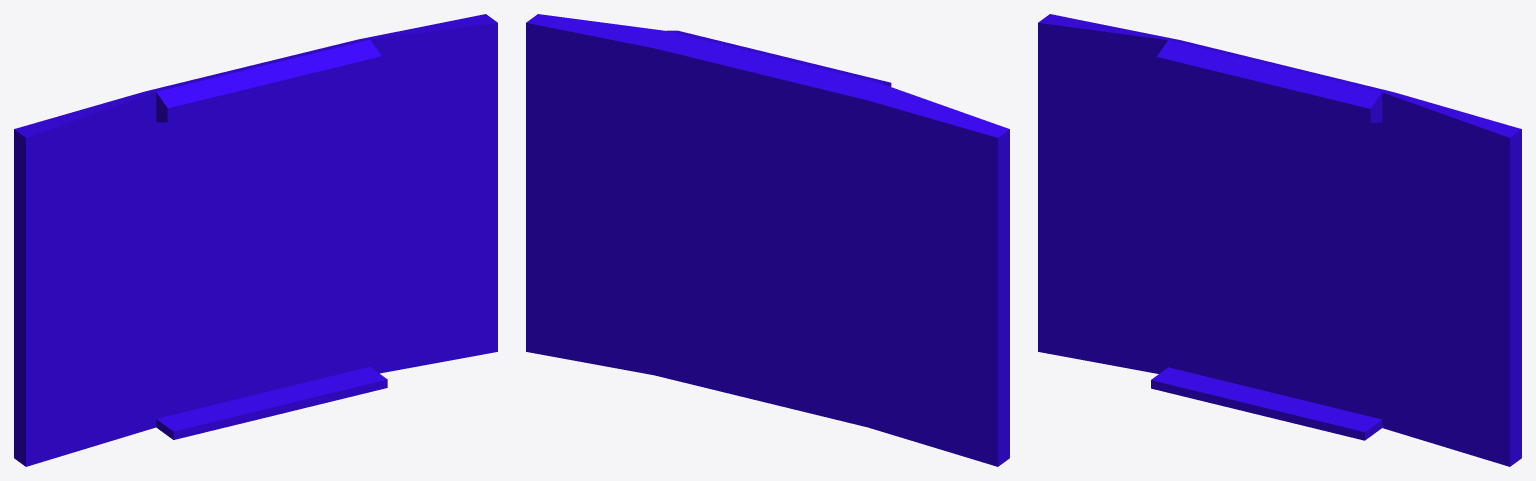
Rendered from office_pack_whiteboard_onWall_1_meshCollider.fbx.
3 views of the same model, side by side, from view 1: azimuth 30°, elevation 25°; view 2: azimuth 150°, elevation 25°; view 3: azimuth 330°, elevation 25° (orthographic).
Visible parts, largest first — view 1: office_pack_whiteboard_onWall_1_meshCollider; view 2: office_pack_whiteboard_onWall_1_meshCollider; view 3: office_pack_whiteboard_onWall_1_meshCollider.
Boxes of the visible parts, x1,y1,x2,y2 form: office_pack_whiteboard_onWall_1_meshCollider: [14, 14, 497, 466]; office_pack_whiteboard_onWall_1_meshCollider: [526, 14, 1009, 466]; office_pack_whiteboard_onWall_1_meshCollider: [1038, 14, 1521, 466].
Size of the model in its own units: 91 by 63.27 by 9.8.
